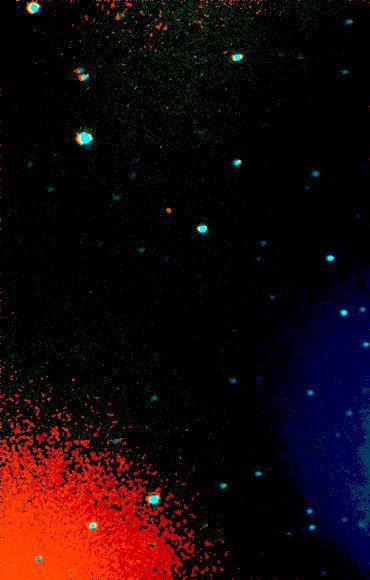star: (153, 195, 183, 225)
